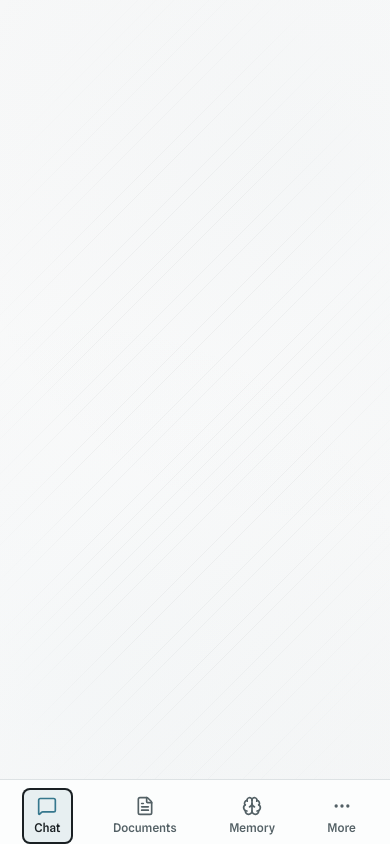
Scenario: MobileBottomNav Draft Room gating › does not affect other More-sheet items when the capability is disabled
Click the button with aria-label "More navigation options". click: (342, 816)
box: [315, 788, 368, 843]
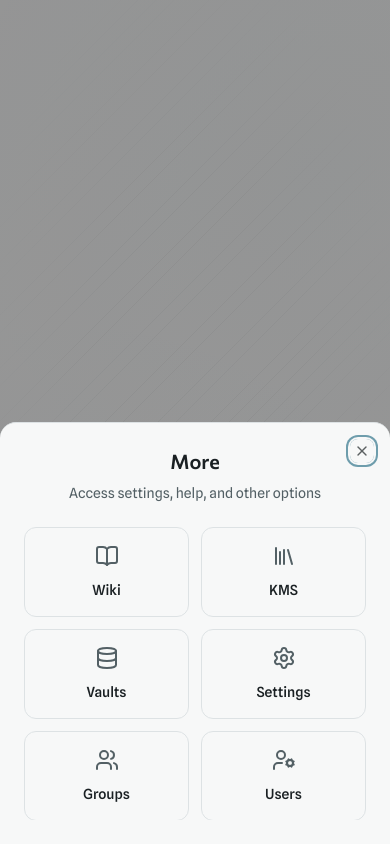
Expected: the button labelled "Wiki" is shown, [24, 527, 189, 617]
Expected: the button labelled "KMS" is shown, [201, 527, 366, 617]
Expected: the button labelled "Vaults" is shown, [24, 629, 189, 719]
